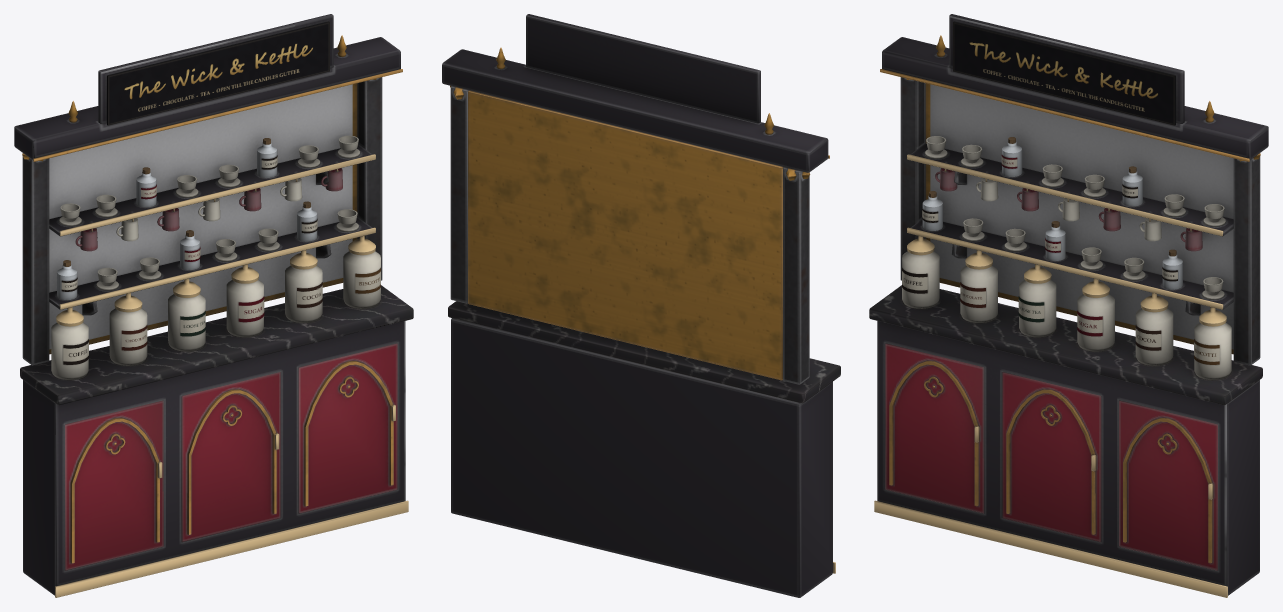
File: CafeBackShelf.fbx
The picture shows the model from 3 angles, left to right: view 1: azimuth 30°, elevation 25°; view 2: azimuth 150°, elevation 25°; view 3: azimuth 330°, elevation 25°; orthographic projection.
Visible parts, largest first — view 1: CafeBackShelf_Main, CafeBackShelf_Mirror; view 2: CafeBackShelf_Main; view 3: CafeBackShelf_Main, CafeBackShelf_Mirror.
Part boxes in pixels (x1,y1,x2,y2): CafeBackShelf_Main: (14,14,413,597); CafeBackShelf_Mirror: (49,84,352,349); CafeBackShelf_Main: (442,14,840,597); CafeBackShelf_Main: (869,14,1268,597); CafeBackShelf_Mirror: (930,84,1233,349).
Bounding box in the file's own units: 632 × 819 × 124.
